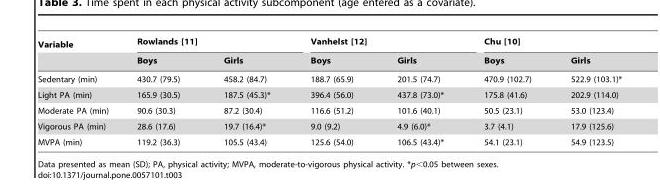table: (37, 36, 621, 146)
table column: (374, 36, 463, 146), (201, 36, 289, 146), (463, 36, 550, 146), (37, 36, 122, 146), (289, 36, 374, 146), (122, 36, 201, 146), (550, 36, 621, 146)
table column header: (37, 36, 621, 69)
table row: (37, 52, 621, 69), (37, 69, 621, 86), (37, 36, 621, 52), (37, 86, 621, 102), (37, 102, 621, 118), (37, 118, 621, 134), (37, 134, 621, 146)
table spanning cell: (37, 36, 122, 69), (289, 36, 463, 52), (122, 36, 289, 52), (463, 36, 621, 52)
